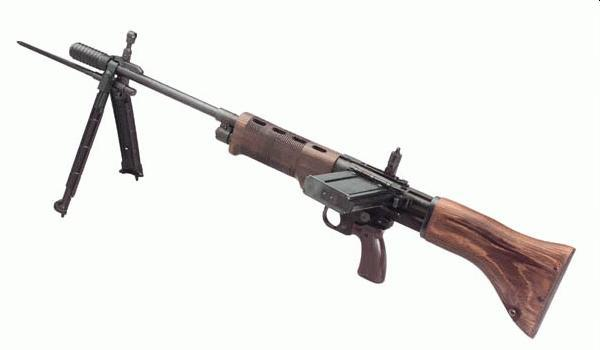rifle: (9, 18, 576, 335)
